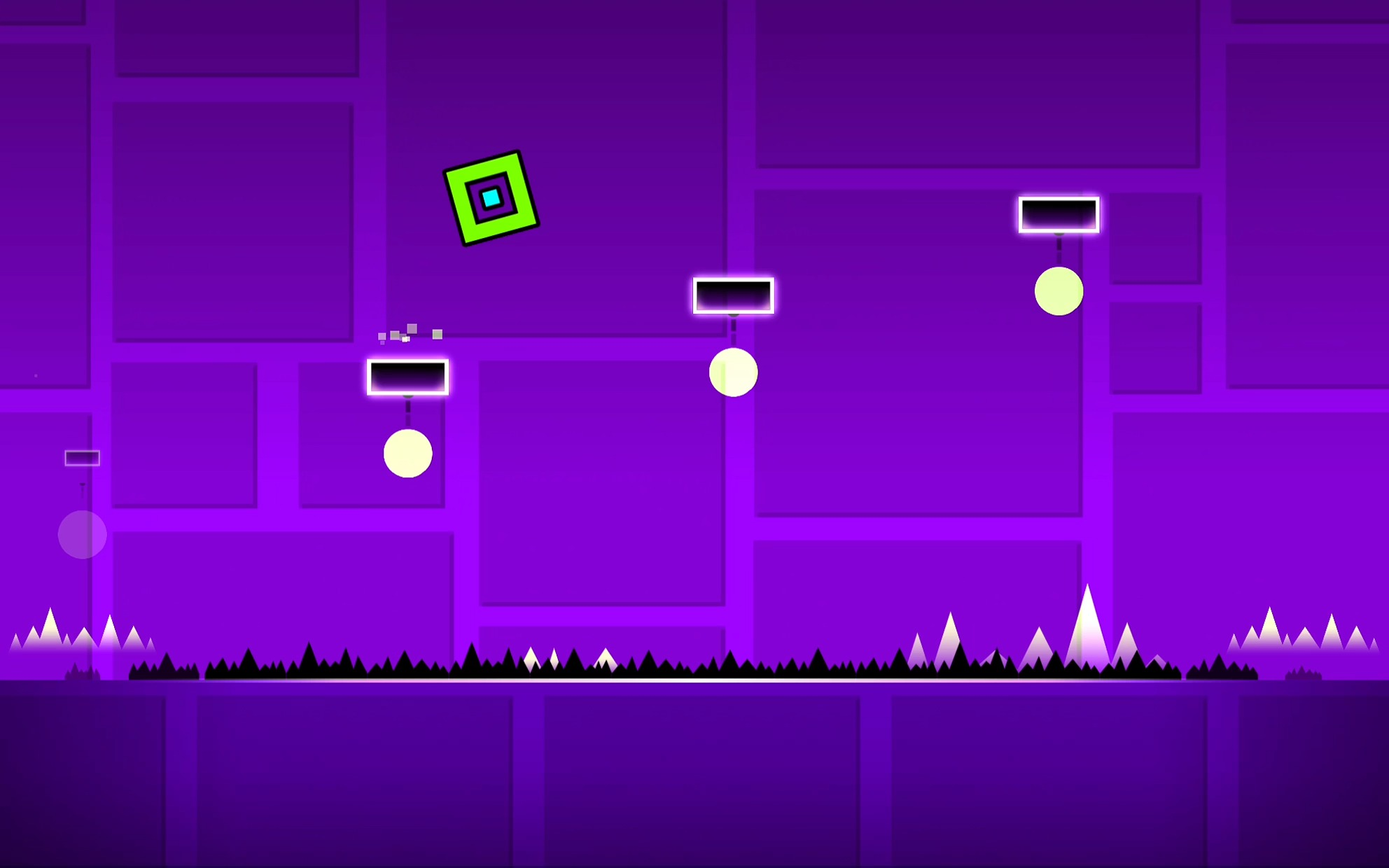Block3: (365, 360, 454, 398), (1017, 195, 1103, 233), (694, 276, 773, 310)
Player: (443, 151, 538, 246)
Spike3: (4, 633, 1389, 682)
